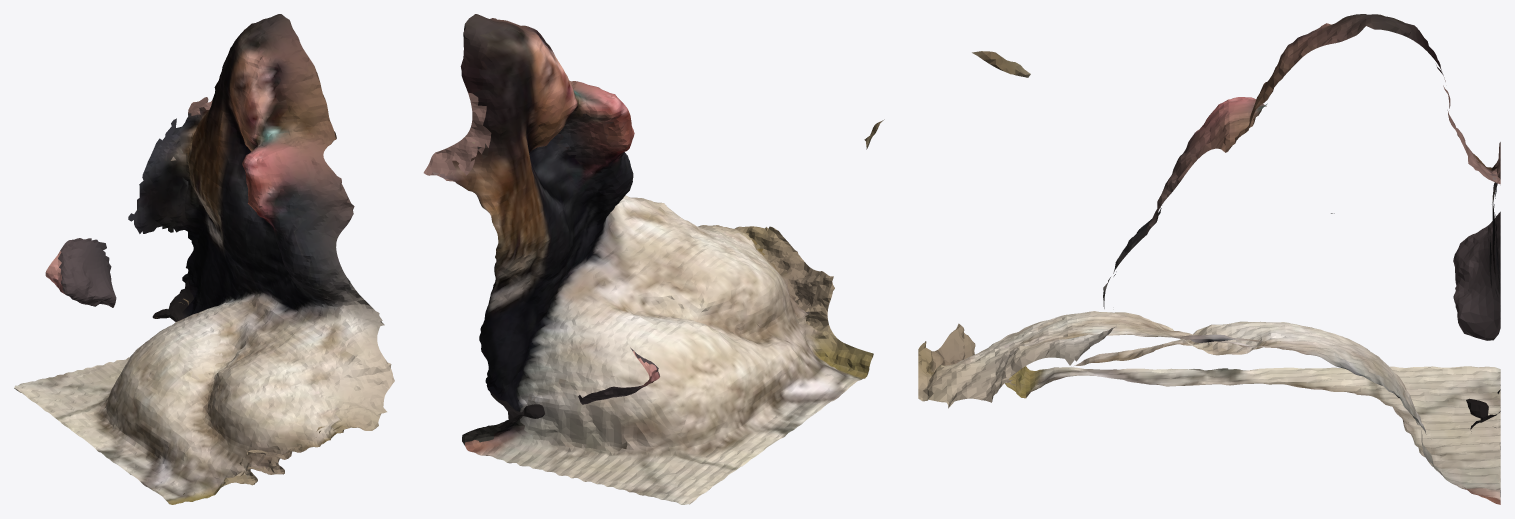
3 renders of one model, left to right at view 1: azimuth 30°, elevation 25°; view 2: azimuth 150°, elevation 25°; view 3: azimuth 270°, elevation 25°, orthographic. The views are drawn at different scales.
Bounding box in the file's own units: 0.553 × 0.792 × 0.8086.
Materials: 1 (1 with a texture image).
